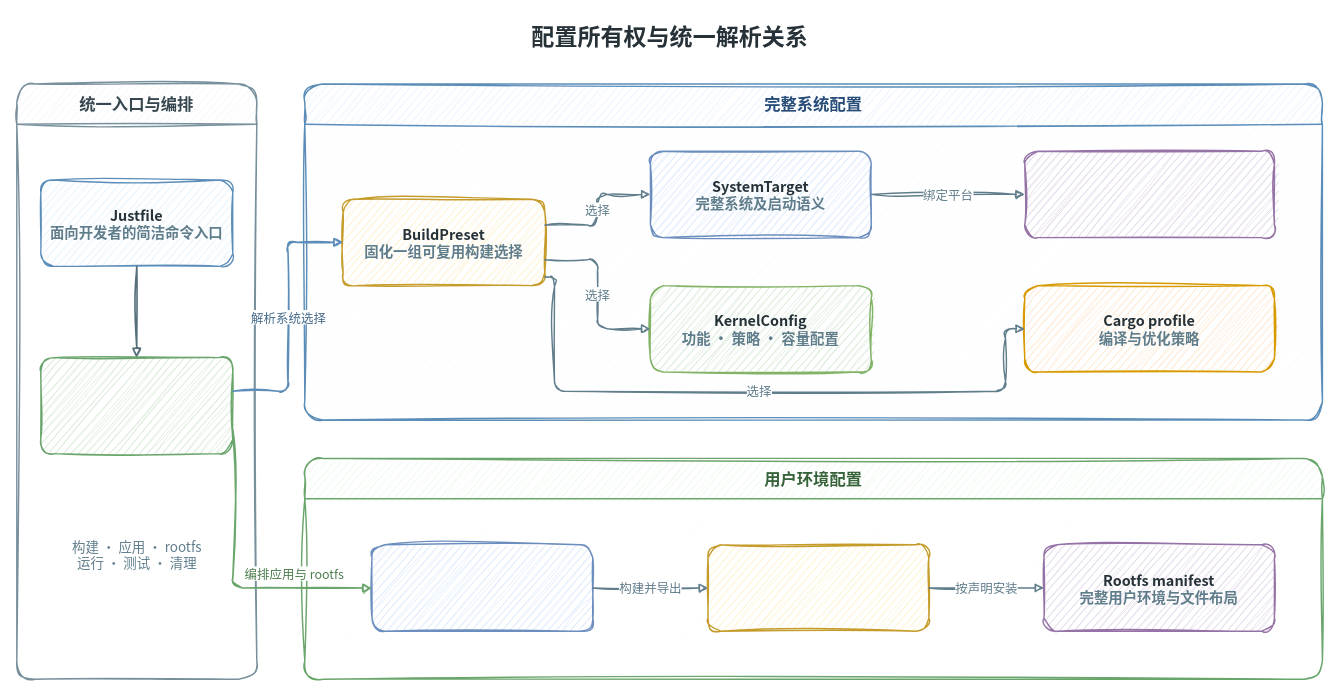
Image size: 1340x696. Some labels were removed from this diagram. The centre of each missing label's shape, as x and y in pixels:
App manifests 应用构建与导出声明: the point at 482,587
Platform 架构 · 机器 · DTB · 输出要求: the point at 1149,194
scripts/xtask 类型化解析 · 校验 · 编排: the point at 136,405
应用产物 ELF · 资源文件 · 安装输入: the point at 818,587
